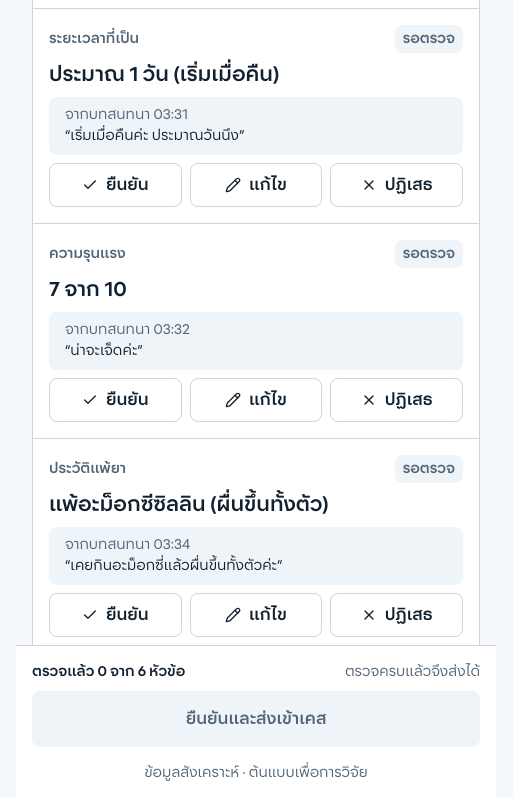
Test: review decisions › reject needs a reason before it can be saved
(page scrolled)
What coordinates should you click on to do the following:
click the button "ปฏิเสธ" below "ความรุนแรง"
I would click on:
 (397, 400)
Its box is [330,378,463,422].
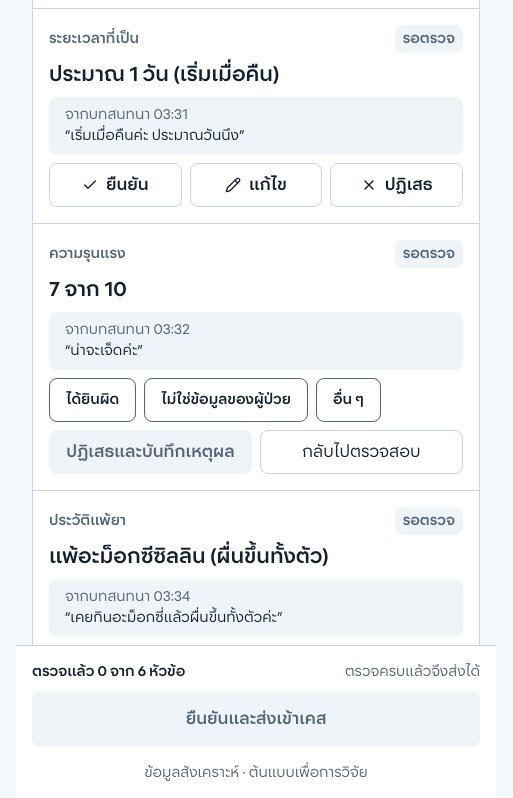
Result: the button "ปฏิเสธและบันทึกเหตุผล" is disabled at [49,430,252,474]
What coordinates should you click on to do the following:
click the radio button labelled "ไม่ใช่ข้อมูลของผู้ป่วย"
I would click on:
 (226, 400)
Its box is [144,378,308,422].
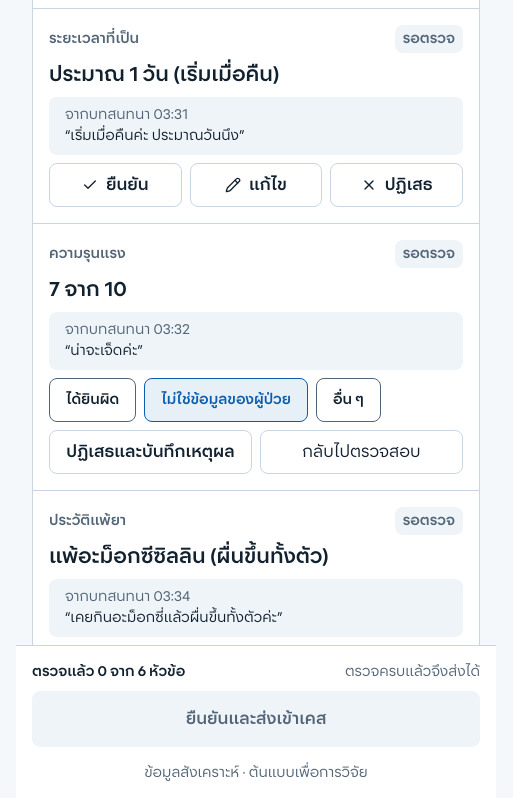
What coordinates should you click on to do the following:
click the button "ปฏิเสธและบันทึกเหตุผล"
I would click on:
 (150, 452)
Its box is [49,430,252,474].
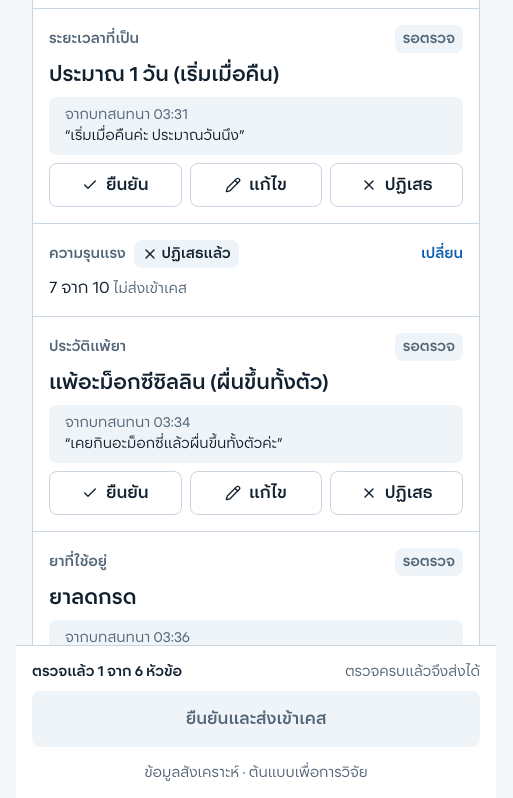
Result: the text "ปฏิเสธแล้ว" is shown at [134,240,239,268]
Result: the text "ไม่ส่งเข้าเคส" is shown at [113,282,187,296]
